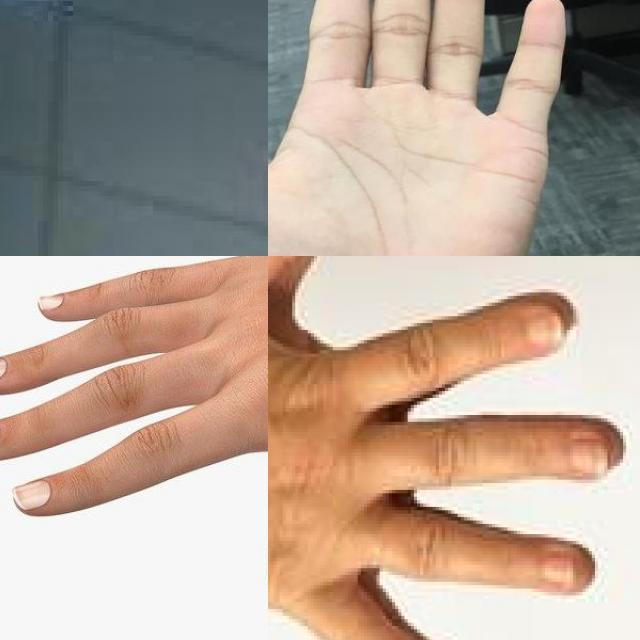no-gloves: (268, 256, 610, 640), (0, 256, 268, 593), (268, 0, 569, 256), (148, 126, 268, 256)
